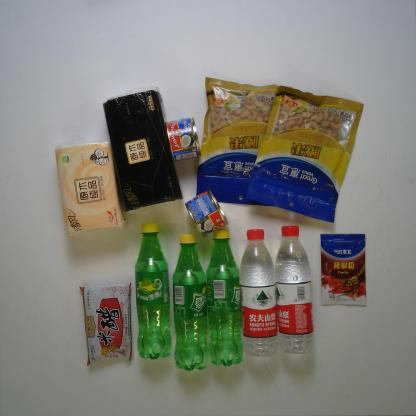Canned Food: (184, 188, 230, 239), (164, 116, 202, 162)
Dried Fruit: (245, 85, 364, 225), (195, 76, 293, 208)
Drink: (273, 225, 316, 356), (133, 222, 173, 362), (238, 227, 280, 359), (205, 228, 244, 368), (171, 233, 210, 372)
Seasoner: (78, 280, 134, 367), (320, 233, 368, 307)
Tissue: (101, 85, 185, 216), (54, 139, 129, 238)
